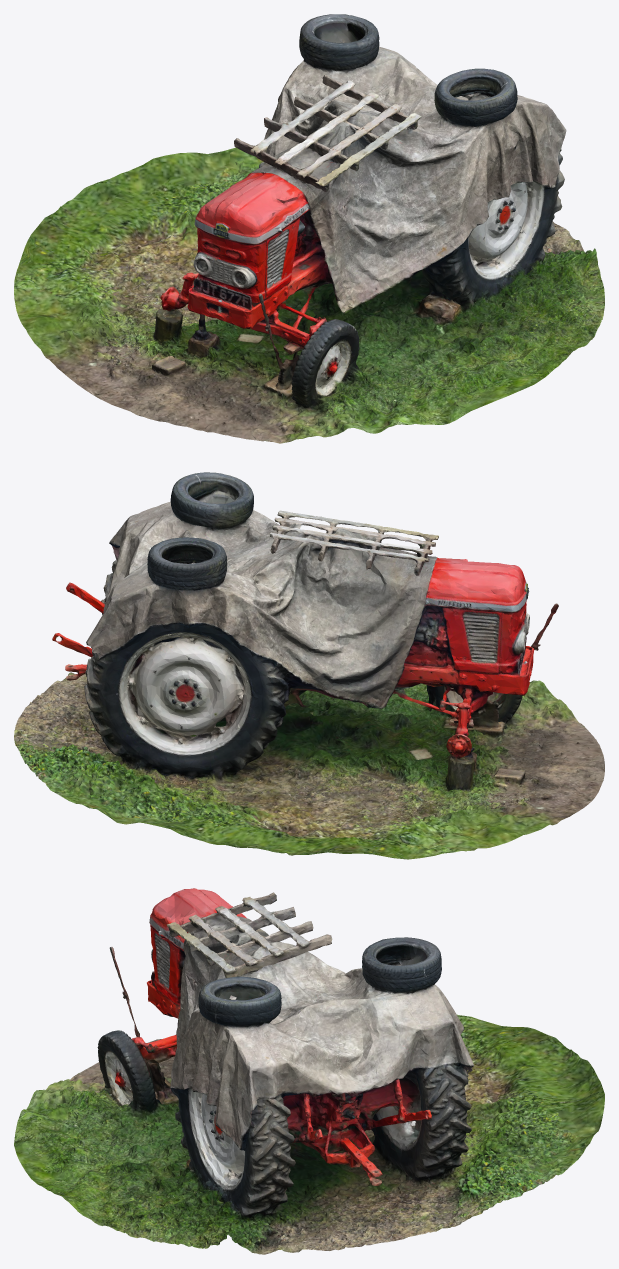
3 views of the same model, one above another, from view 1: azimuth 30°, elevation 25°; view 2: azimuth 150°, elevation 25°; view 3: azimuth 270°, elevation 25° (orthographic).
Bounding box in the file's own units: 4.48 × 2 × 4.48.
1 material, 1 textured.
